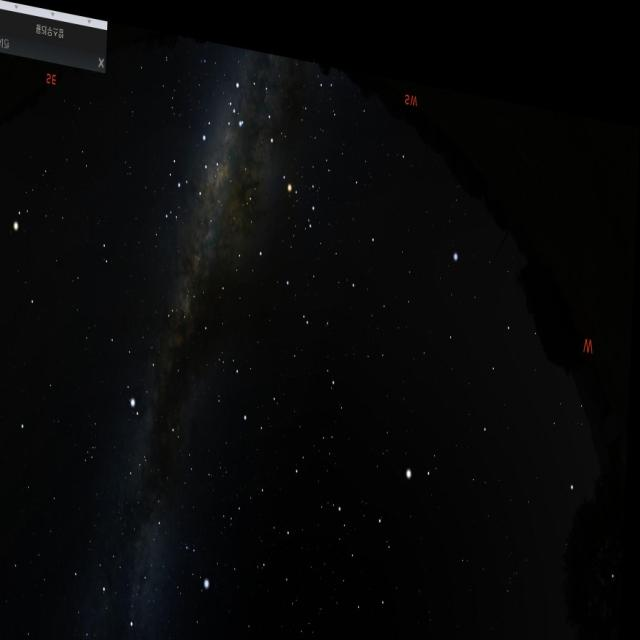aquila: (108, 275, 202, 445)
bootes: (355, 396, 456, 619)
cygnus: (99, 472, 181, 640)
lyra: (181, 528, 220, 593)
sagittarius: (144, 88, 232, 234)
scorpius: (228, 53, 332, 232)
